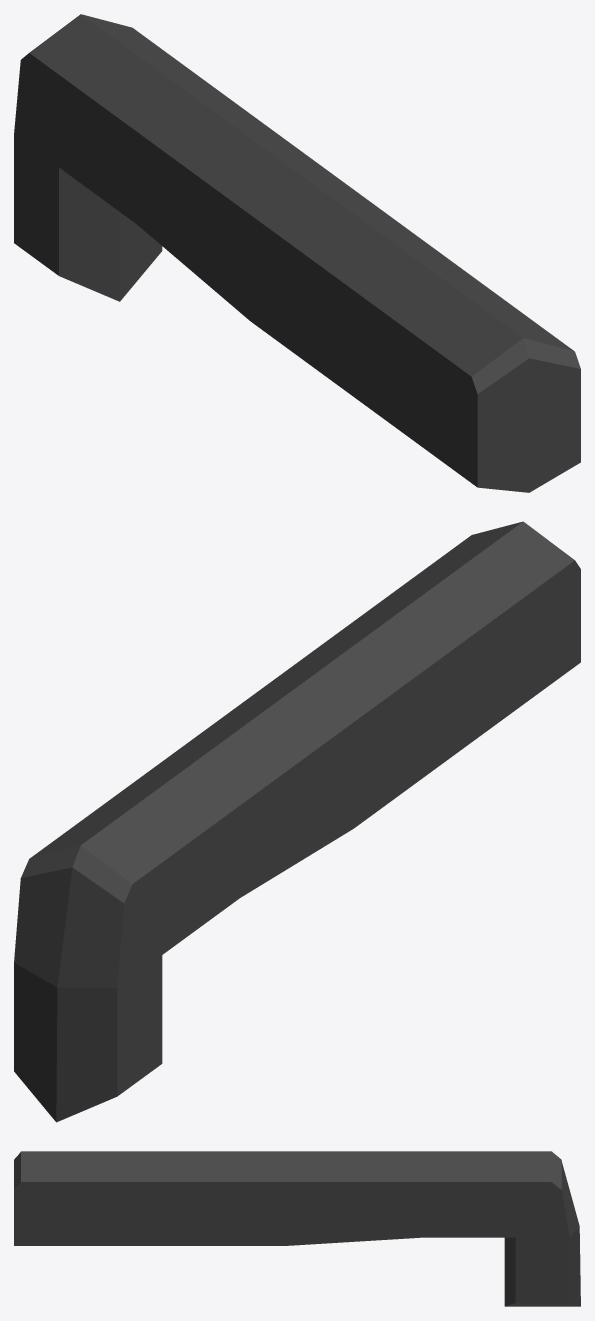
Rendered from Gun.fbx.
The picture shows the model from 3 angles, top to bottom: view 1: azimuth 30°, elevation 25°; view 2: azimuth 150°, elevation 25°; view 3: azimuth 270°, elevation 25°; orthographic projection. The views are drawn at different scales.
Visible parts, largest first — view 1: Cube; view 2: Cube; view 3: Cube.
Part boxes in pixels (bbox=[...]): Cube: bbox=[14, 14, 580, 492]; Cube: bbox=[14, 521, 580, 1122]; Cube: bbox=[14, 1151, 580, 1306].
Size of the model in its own units: 31.24 by 74.85 by 248.
